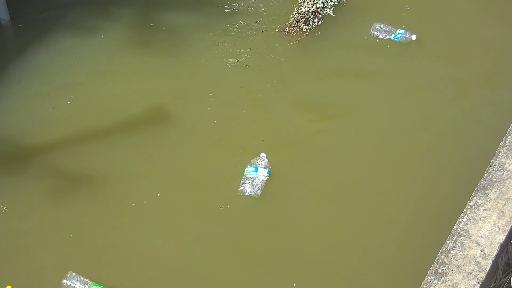plastic: (238, 150, 275, 199), (366, 17, 426, 43), (53, 266, 121, 288), (0, 283, 19, 287)
twig: (258, 0, 352, 50)
